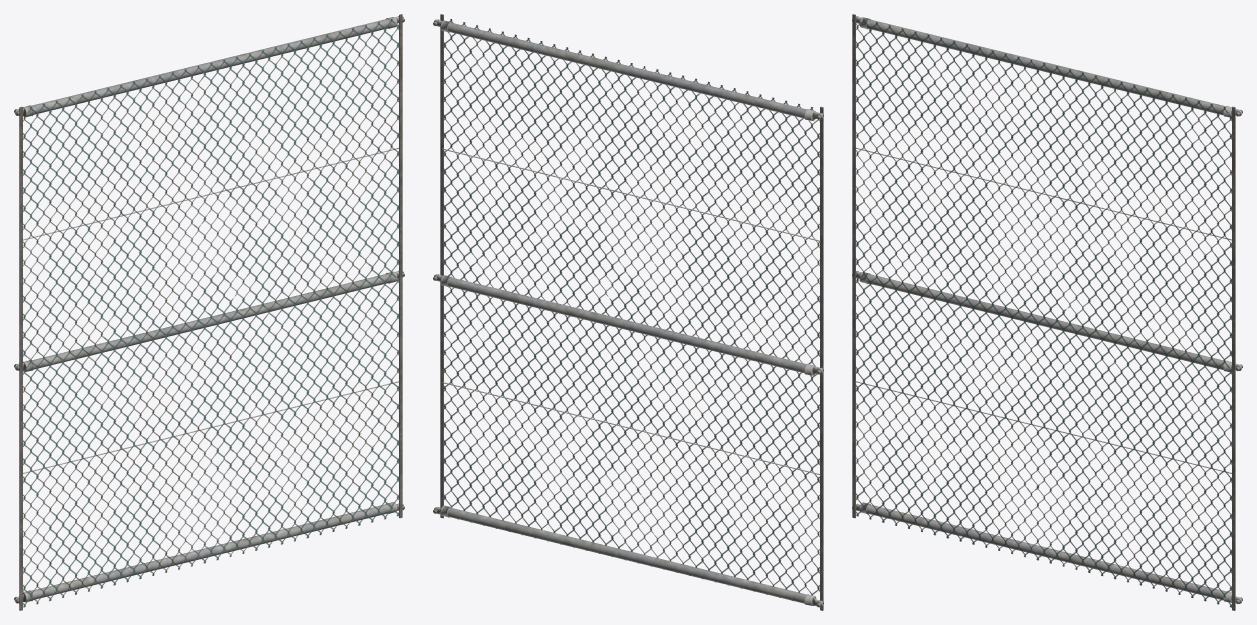
The model's file is modular_chainlink_fence-panel.glb.
3 renders of one model, left to right at view 1: azimuth 30°, elevation 25°; view 2: azimuth 150°, elevation 25°; view 3: azimuth 330°, elevation 25°, orthographic.
Parts seen in each view (by area): view 1: modular_chainlink_fence_double; view 2: modular_chainlink_fence_double; view 3: modular_chainlink_fence_double.
Part boxes in pixels (<box>): modular_chainlink_fence_double: <box>14,14,404,610</box>; modular_chainlink_fence_double: <box>433,14,823,610</box>; modular_chainlink_fence_double: <box>852,14,1242,610</box>.
Size of the model in its own units: 1.91 by 2.37 by 0.0486.
2 materials, 2 textured.
